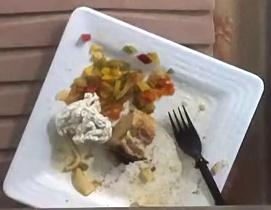unknown: (107, 109, 155, 163)
vegetables: (65, 46, 175, 120)
